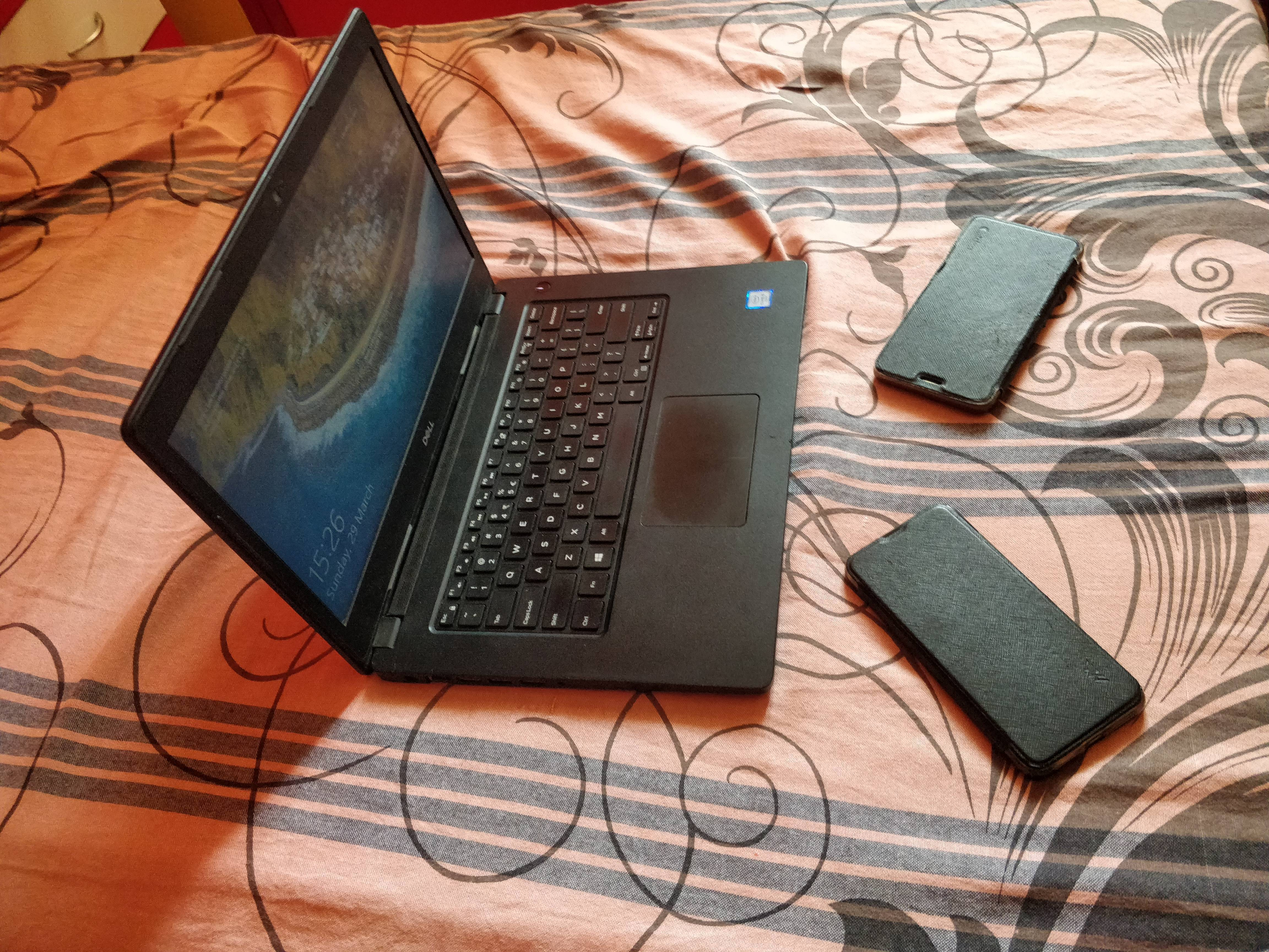Electronics: (115, 5, 847, 711), (831, 493, 1175, 788), (863, 209, 1109, 431)
